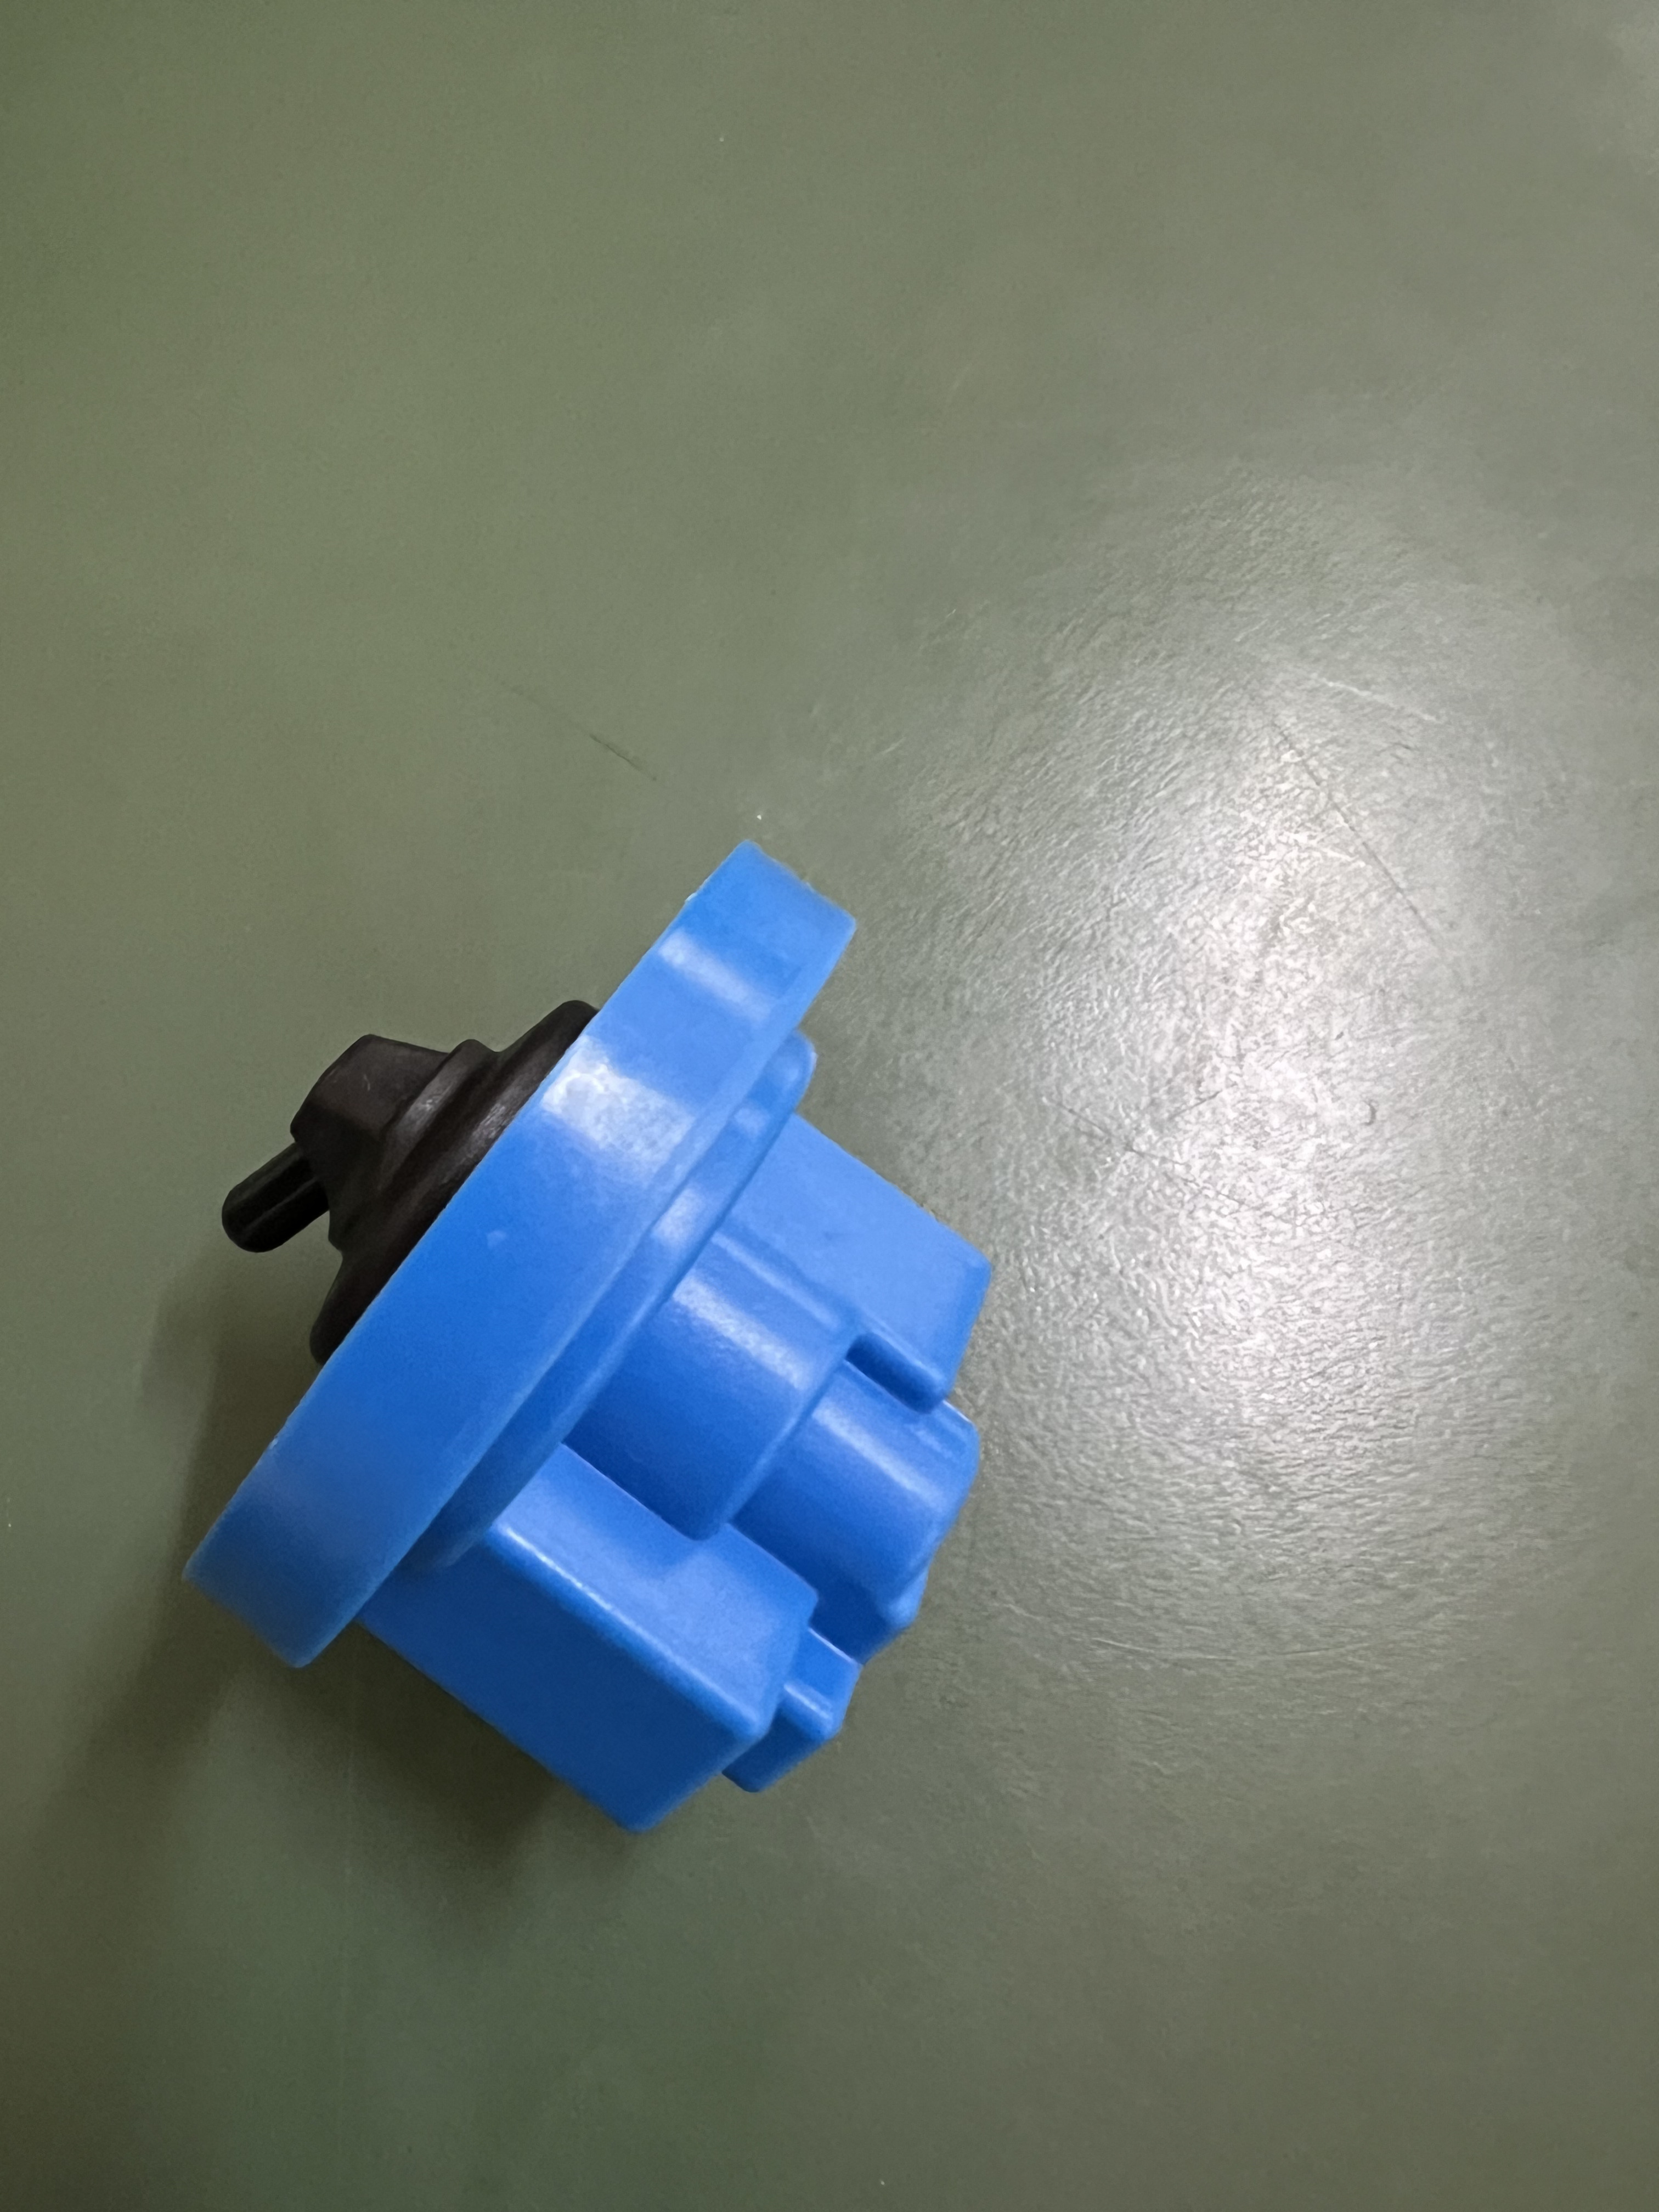voltas_beko_pressure_switch: (162, 848, 1044, 1831)
